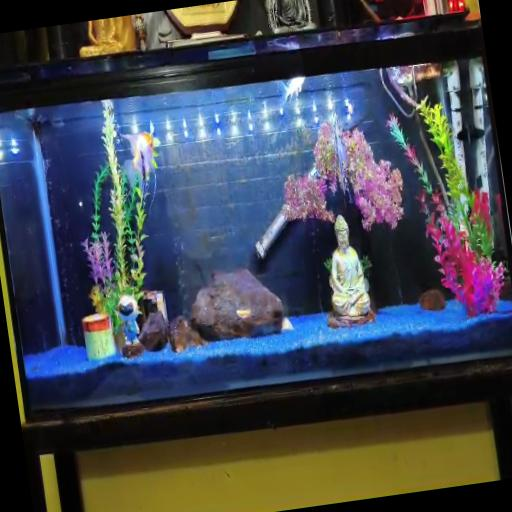Fish: (122, 122, 159, 200), (330, 112, 348, 195), (280, 77, 305, 104), (237, 309, 251, 319)
